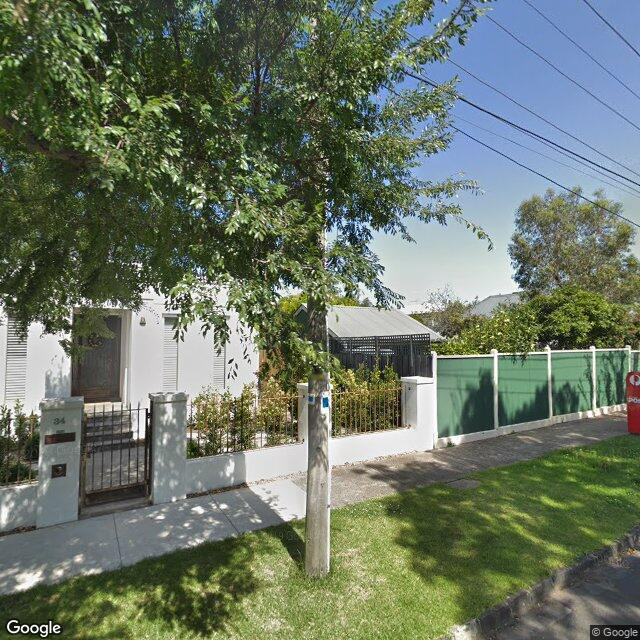timber-pole: (304, 222, 331, 579)
